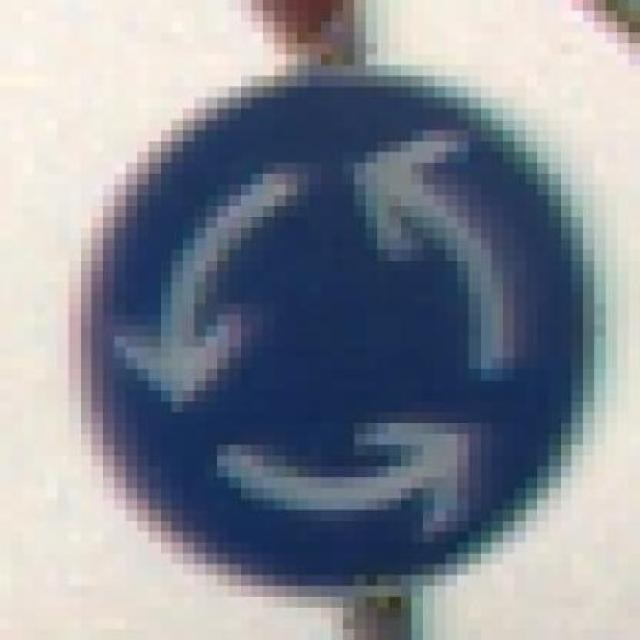Round-About: (57, 65, 617, 608)
